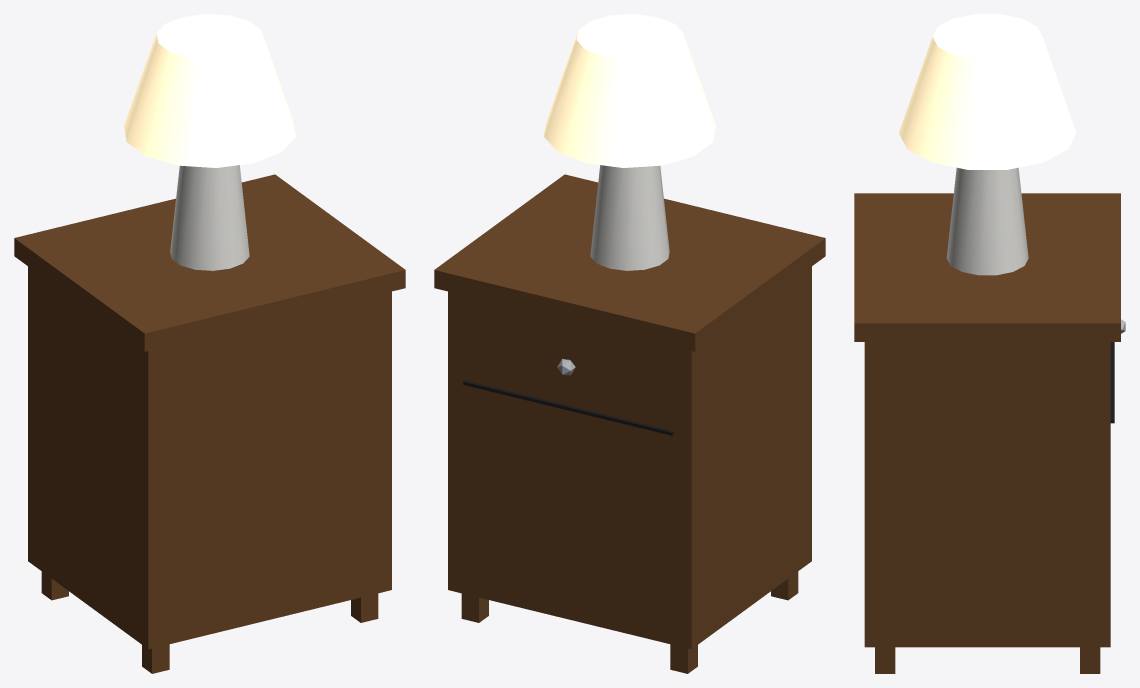
Rendered from nightstand.glb.
3 views of the same model, side by side, from view 1: azimuth 30°, elevation 25°; view 2: azimuth 150°, elevation 25°; view 3: azimuth 270°, elevation 25° (orthographic). The views are drawn at different scales.
Parts seen in each view (by area): view 1: nightstand; view 2: nightstand; view 3: nightstand.
Part boxes in pixels (x1,y1,x2,y2): nightstand: [14, 14, 405, 673]; nightstand: [434, 14, 825, 673]; nightstand: [854, 14, 1125, 673].
Bounding box in the file's own units: 0.45 × 0.938 × 0.3969.
